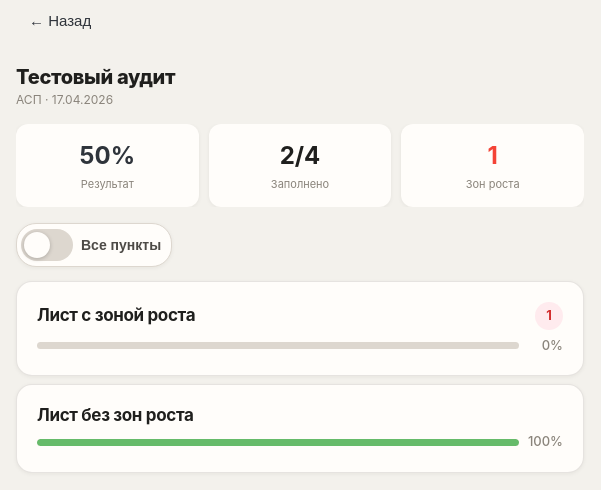
Test: AuditViewPage › shows issue details immediately when growth areas mode is enabled
What coordinates should you click on to do the following:
click the switch named "Только зоны роста"
I would click on:
 (94, 245)
Its box is top-left (16, 223), bottom-right (172, 267).
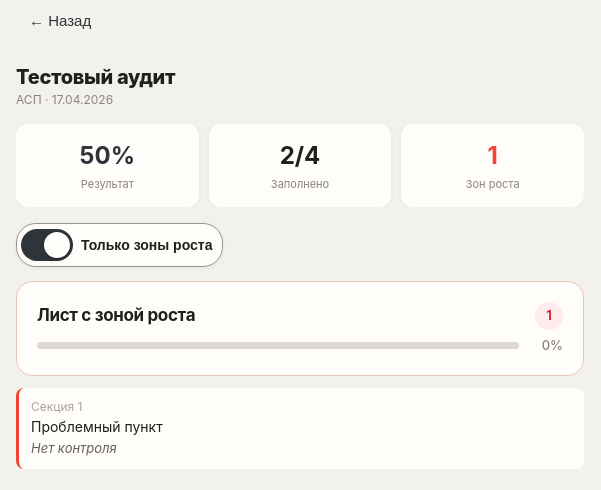
Now the text "Проблемный пункт" is shown, box top-left (31, 418), bottom-right (163, 435)
Now the text "Нет контроля" is shown, box top-left (31, 440), bottom-right (117, 456)
Now the text "Лист без зон роста" is gone
